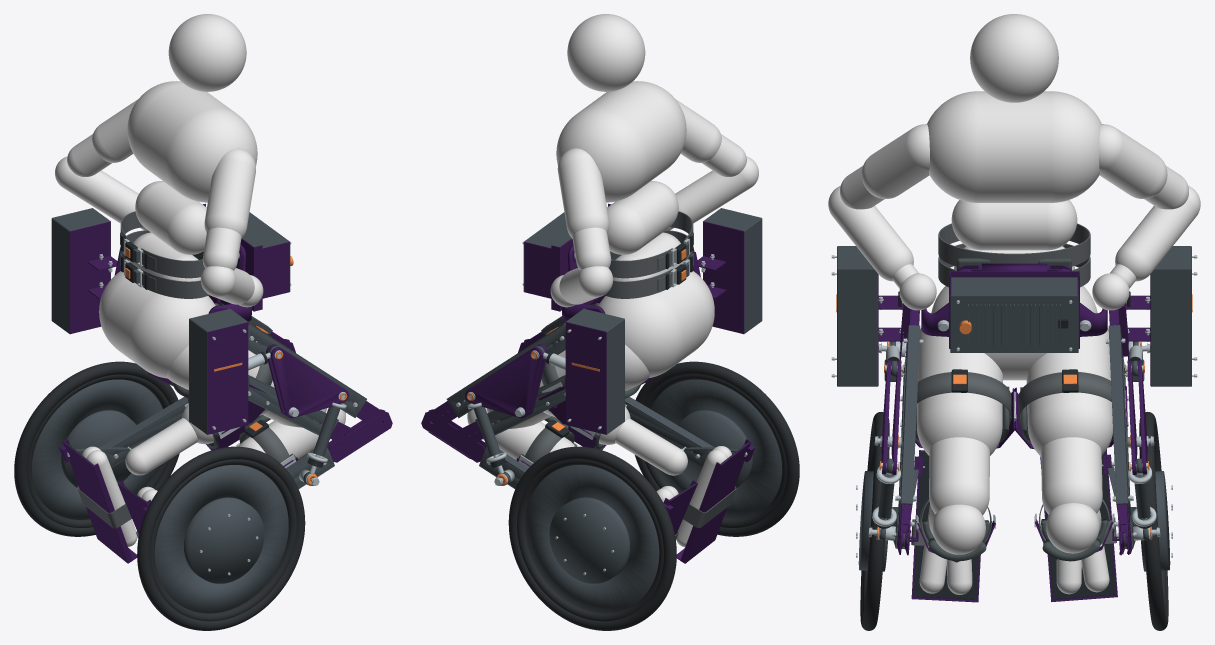
Rendered from exo-dfm-r03.glb.
The picture shows the model from 3 angles, left to right: view 1: azimuth 30°, elevation 25°; view 2: azimuth 150°, elevation 25°; view 3: azimuth 270°, elevation 25°; orthographic projection. The views are drawn at different scales.
Parts seen in each view (by area): view 1: R01 | Extruded.022, Solid 2, R01 | Extruded.058, Solid 6, R01 | Pipe.002, R01 | Extruded.021, Solid 4, R01 | Pipe.004, BAT R02 | R 2mm removable cheek, Solid 3, BAT R02 | L 2mm removable cheek, Solid 19 (+34 smaller); view 2: R01 | Extruded.058, Solid 2, R01 | Extruded.022, Solid 6, R01 | Pipe.004, R01 | Extruded.051, Solid 4, R01 | Pipe.002, BAT R02 | L 2mm removable cheek.001, Solid 3, BAT R02 | R 2mm removable cheek.001, Solid 24 (+35 smaller); view 3: Solid 2, ECU R02 | 2mm cover panel.001, Solid 7, Solid 4, Solid 13, Solid 3, BAT R02 | L 2mm front rear fold.001, BAT R02 | R 2mm front rear fold.001, Solid 8, Solid 14, Solid 19, Solid 24 (+38 smaller).
Boxes of the visible parts, box(x1,y1,x2,y2) form: R01 | Extruded.022: box(154, 465, 288, 613); Solid 2: box(127, 81, 257, 202); R01 | Extruded.058: box(31, 379, 162, 519); Solid 6: box(99, 271, 215, 378); R01 | Pipe.002: box(137, 446, 305, 630); R01 | Extruded.021: box(184, 497, 264, 583); Solid 4: box(168, 14, 246, 91); R01 | Pipe.004: box(14, 361, 179, 536); BAT R02 | R 2mm removable cheek: box(207, 322, 248, 434); Solid 3: box(135, 181, 206, 254); BAT R02 | L 2mm removable cheek: box(69, 221, 110, 333); Solid 19: box(204, 148, 255, 238); R01 | Extruded.058: box(525, 465, 659, 613); Solid 2: box(556, 81, 686, 202); R01 | Extruded.022: box(651, 379, 782, 519); Solid 6: box(598, 271, 714, 377); R01 | Pipe.004: box(508, 446, 676, 630); R01 | Extruded.051: box(549, 497, 629, 583); Solid 4: box(567, 14, 645, 91); R01 | Pipe.002: box(635, 361, 799, 536); BAT R02 | L 2mm removable cheek.001: box(565, 322, 606, 434); Solid 3: box(607, 181, 678, 254); BAT R02 | R 2mm removable cheek.001: box(703, 221, 744, 333); Solid 24: box(557, 148, 609, 238); Solid 2: box(927, 91, 1101, 202); ECU R02 | 2mm cover panel.001: box(950, 295, 1078, 352); Solid 7: box(917, 328, 1002, 455); Solid 4: box(970, 14, 1058, 102); Solid 13: box(1026, 328, 1113, 456); Solid 3: box(951, 200, 1077, 250); BAT R02 | L 2mm front rear fold.001: box(1150, 269, 1191, 386); BAT R02 | R 2mm front rear fold.001: box(837, 269, 878, 386); Solid 8: box(929, 437, 989, 514); Solid 14: box(1041, 437, 1102, 514); Solid 19: box(861, 124, 929, 198); Solid 24: box(1099, 124, 1167, 198).
Size of the model in its own units: 0.7527 by 1.49 by 0.8008.
